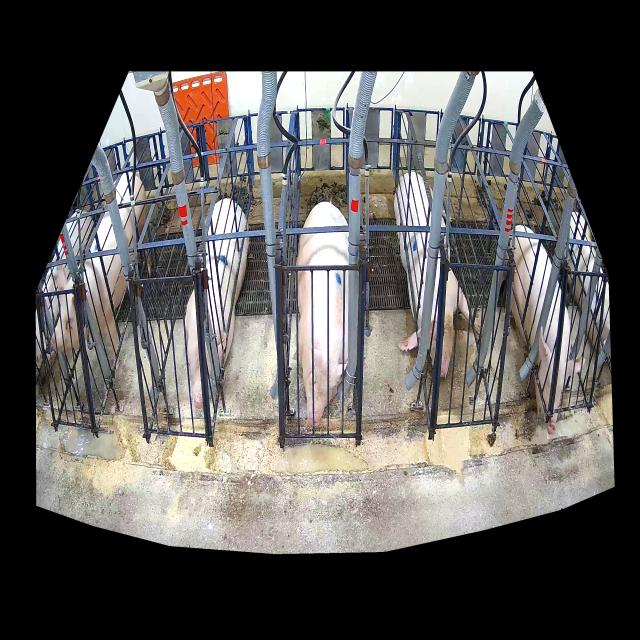pig: (51, 172, 151, 369), (511, 225, 585, 435), (394, 172, 469, 379), (185, 198, 249, 409), (298, 202, 348, 427)
